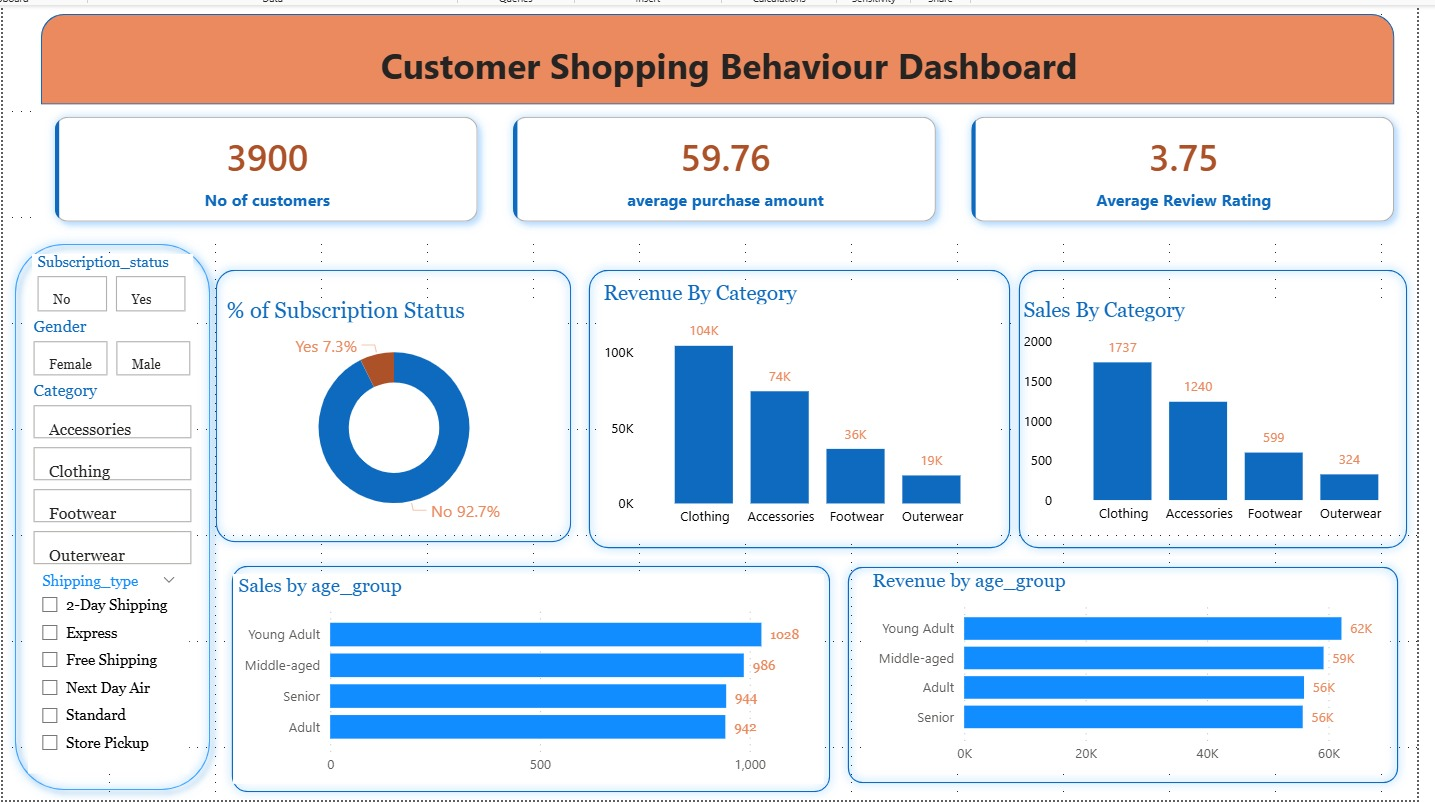

Layout of this report page (visuals, bound fields, positions):
{"tool":"powerbi","page":{"name":"Page 1","canvas":[1280,720],"ordinal":0},"visuals":[{"type":"cardVisual","fields":{"Data":["customer_behavior customer.No of customers","customer_behavior customer.average purchase amount","customer_behavior customer.Average Review Rating"]},"box":[29.9,84.2,1249.8,129.5],"z":0},{"type":"shape","box":[34.5,8.4,1225.6,82],"z":1000},{"type":"textbox","box":[238.6,27,838.8,56.9],"z":2000},{"type":"donutChart","title":"% of Subscription Status","fields":{"Category":["customer_behavior customer.subscription_status"],"Y":["Sum(customer_behavior customer.customer_id)"]},"box":[197.4,265.4,313.4,212.8],"z":3000},{"type":"clusteredColumnChart","title":"Sales By Category","fields":{"Category":["customer_behavior customer.category"],"Y":["customer_behavior customer.No of customers"]},"box":[919,265,361,213],"z":4000},{"type":"shape","box":[1.8,207.4,194.7,512.6],"z":5000},{"type":"clusteredColumnChart","title":"Revenue By Category","fields":{"Y":["Sum(customer_behavior customer.purchase_amount)"],"Category":["customer_behavior customer.category"]},"box":[539.3,250.1,363.1,231.5],"z":6001,"group":"g1"},{"type":"shape","box":[522.6,231.8,397.6,268.1],"z":6008,"group":"g1"},{"type":"shape","box":[184.8,231.8,337.8,262.6],"z":7000},{"type":"shape","box":[912,231.8,367.7,268.1],"z":8000},{"type":"group","id":"g1","title":"Group 1","box":[522.6,231.8,397.6,268.1],"z":9000},{"type":"advancedSlicerVisual","title":"Gender","fields":{"Values":["customer_behavior customer.gender"]},"box":[22.6,283.5,153.1,58],"z":10000},{"type":"advancedSlicerVisual","title":"Category","fields":{"Values":["customer_behavior customer.category"]},"box":[22.6,341.4,153.1,173.9],"z":11000},{"type":"slicer","fields":{"Values":["customer_behavior customer.shipping_type"]},"box":[22.6,509,145.8,187.5],"z":12000},{"type":"advancedSlicerVisual","title":"Subscription_status","fields":{"Values":["customer_behavior customer.subscription_status"]},"box":[26.3,225.5,145.8,58],"z":12001},{"type":"clusteredBarChart","title":"Revenue by age_group","fields":{"Y":["Sum(customer_behavior customer.purchase_amount)"],"Category":["customer_behavior customer.age_group"]},"box":[782.5,510.8,473.7,184.8],"z":12002},{"type":"shape","box":[199.2,499.9,557.9,221],"z":12003},{"type":"clusteredBarChart","title":"Sales by age_group","fields":{"Category":["customer_behavior customer.age_group"],"Y":["CountNonNull(customer_behavior customer.customer_id)"]},"box":[208.3,515.3,535.2,190.2],"z":12004},{"type":"shape","box":[757.1,500.8,514.4,211.9],"z":12005}]}

Visuals, with their boxes on the page's 1280x720 design canvas (x1, y1, x2, y2). These are canvas units, not pixel positions in the 1435x803 screenshot, which may show the page scaled, cropped or inside an application window:
cardVisual - customer_behavior customer.No of customers x customer_behavior customer.average purchase amount: x1=30 y1=84 x2=1280 y2=214
shape: x1=34 y1=8 x2=1260 y2=90
textbox: x1=239 y1=27 x2=1077 y2=84
"% of Subscription Status" donutChart: x1=197 y1=265 x2=511 y2=478
"Sales By Category" clusteredColumnChart: x1=919 y1=265 x2=1280 y2=478
shape: x1=2 y1=207 x2=196 y2=720
"Revenue By Category" clusteredColumnChart: x1=539 y1=250 x2=902 y2=482
shape: x1=523 y1=232 x2=920 y2=500
shape: x1=185 y1=232 x2=523 y2=494
shape: x1=912 y1=232 x2=1280 y2=500
"Group 1" group: x1=523 y1=232 x2=920 y2=500
"Gender" advancedSlicerVisual: x1=23 y1=284 x2=176 y2=342
"Category" advancedSlicerVisual: x1=23 y1=341 x2=176 y2=515
slicer - customer_behavior customer.shipping_type: x1=23 y1=509 x2=168 y2=696
"Subscription_status" advancedSlicerVisual: x1=26 y1=226 x2=172 y2=284
"Revenue by age_group" clusteredBarChart: x1=782 y1=511 x2=1256 y2=696
shape: x1=199 y1=500 x2=757 y2=721
"Sales by age_group" clusteredBarChart: x1=208 y1=515 x2=744 y2=706
shape: x1=757 y1=501 x2=1272 y2=713
